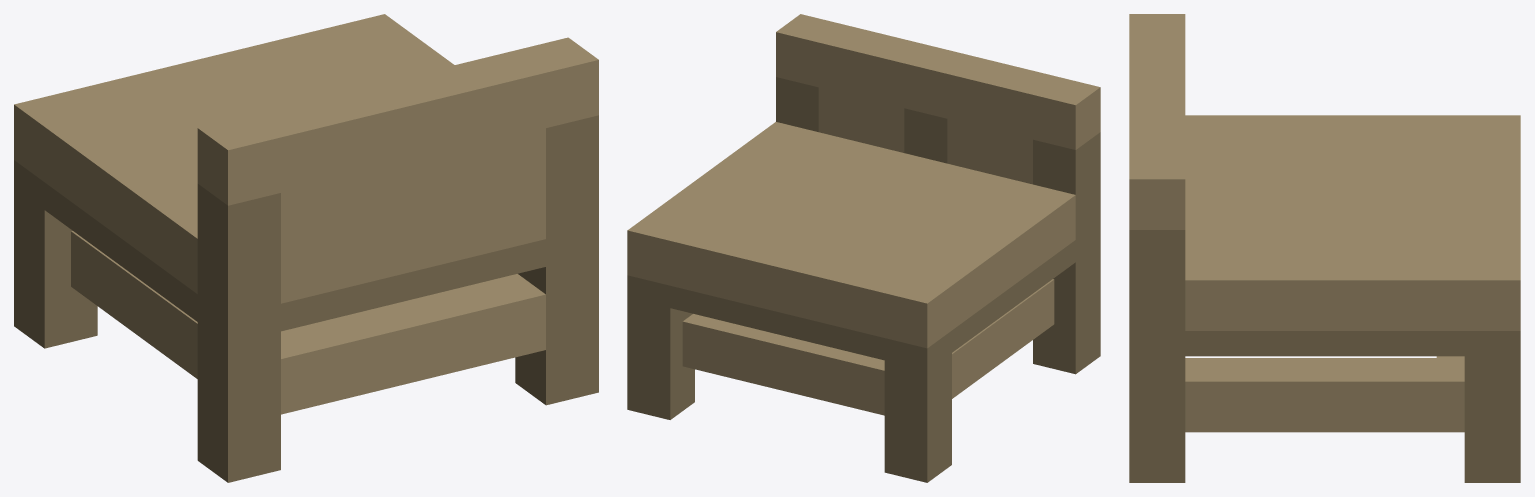
File: banco_trabajo_auxiliar_decorativo_01.glb
The picture shows the model from 3 angles, left to right: view 1: azimuth 30°, elevation 25°; view 2: azimuth 150°, elevation 25°; view 3: azimuth 270°, elevation 25°; orthographic projection. The views are drawn at different scales.
Visible parts, largest first — view 1: banco_trabajo_auxiliar_decorativo; view 2: banco_trabajo_auxiliar_decorativo; view 3: banco_trabajo_auxiliar_decorativo.
Part boxes in pixels (x1,y1,x2,y2): banco_trabajo_auxiliar_decorativo: (14,14,598,482); banco_trabajo_auxiliar_decorativo: (627,14,1100,482); banco_trabajo_auxiliar_decorativo: (1129,14,1520,482).
Bounding box in the file's own units: 1 × 0.8571 × 1.
